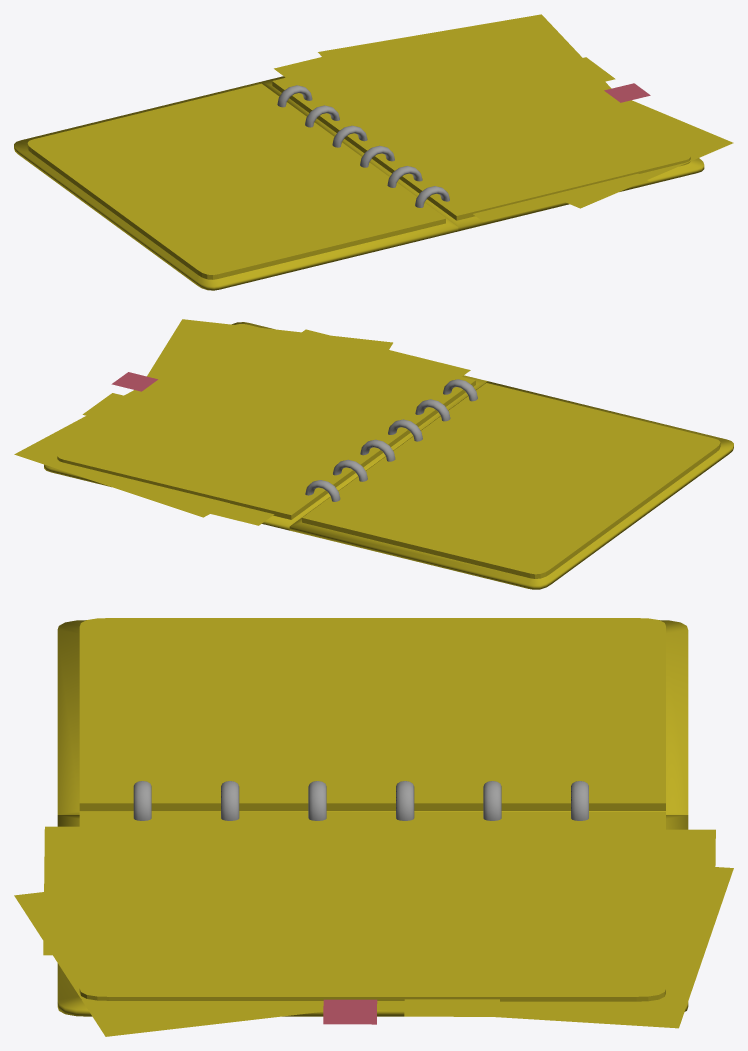
Rendered from CadernoTeste.fbx.
The picture shows the model from 3 angles, top to bottom: view 1: azimuth 30°, elevation 25°; view 2: azimuth 150°, elevation 25°; view 3: azimuth 270°, elevation 25°; orthographic projection. The views are drawn at different scales.
Visible parts, largest first — view 1: Torus.002; view 2: Torus.002; view 3: Torus.002.
Part boxes in pixels (box(x1,y1,x2,y2)): Torus.002: box(14, 14, 733, 290); Torus.002: box(14, 319, 733, 589); Torus.002: box(14, 618, 733, 1036).
Bounding box in the file's own units: 294 × 16.13 × 212.
